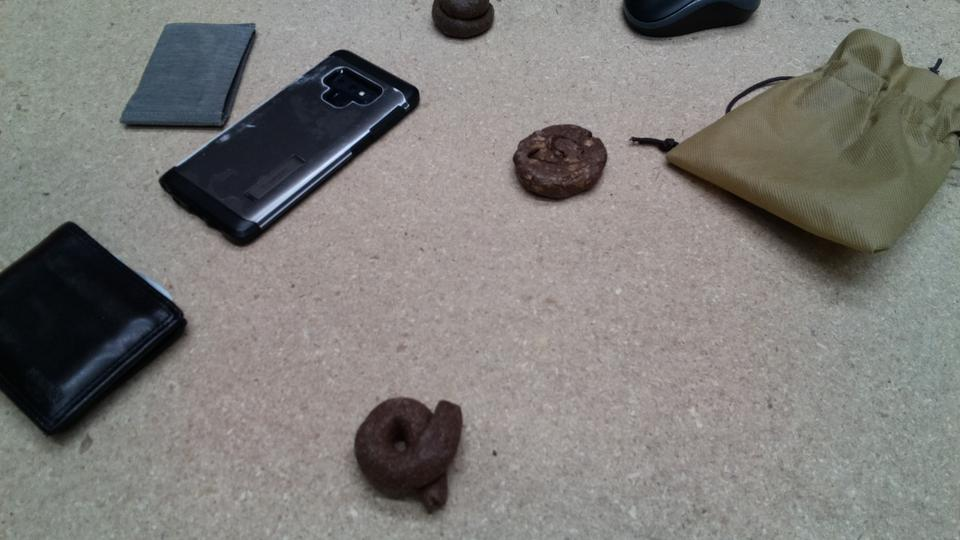poop: (352, 394, 466, 513), (510, 120, 606, 202), (427, 1, 497, 43)
